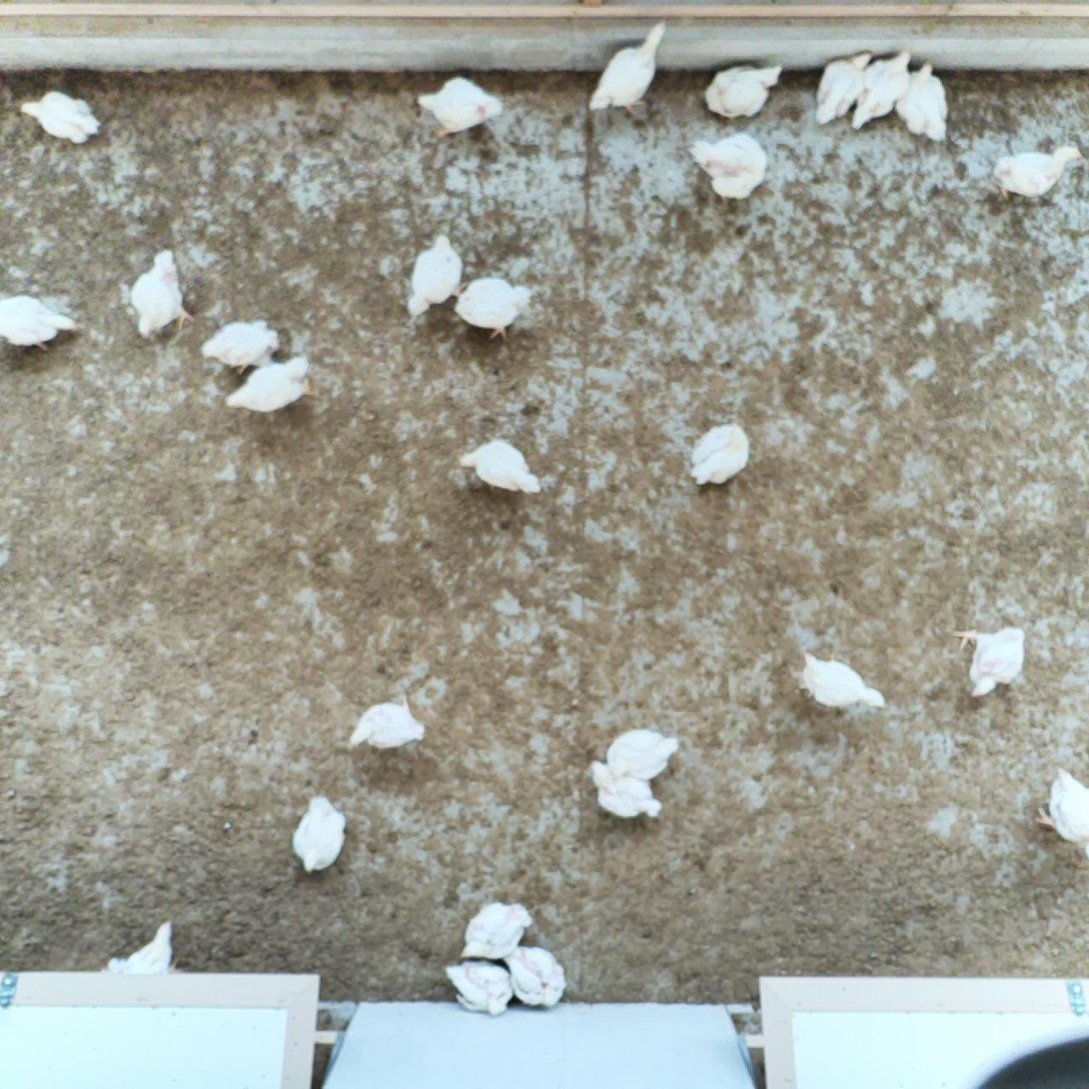chicken: (589, 18, 672, 120), (220, 349, 321, 418), (951, 619, 1031, 702), (127, 245, 194, 342), (691, 127, 772, 204), (795, 647, 890, 712), (452, 274, 536, 346), (418, 73, 505, 142), (401, 232, 472, 316), (995, 140, 1083, 207), (846, 47, 917, 130), (809, 48, 879, 129), (15, 87, 104, 150), (289, 789, 351, 879), (105, 910, 188, 977), (452, 898, 535, 965), (698, 58, 784, 121), (1035, 760, 1089, 860), (201, 316, 284, 381), (458, 435, 544, 496), (686, 416, 753, 493), (587, 757, 665, 821), (348, 693, 428, 754), (499, 942, 568, 1012), (599, 725, 680, 784), (0, 291, 81, 350), (894, 60, 950, 141), (442, 959, 516, 1019)
